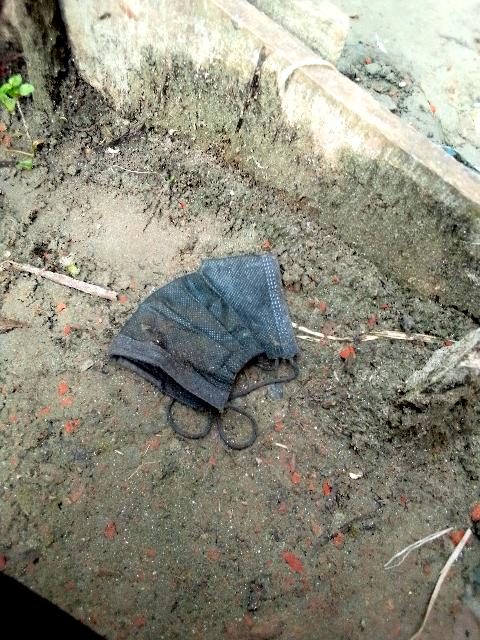mask: (142, 250, 303, 417)
